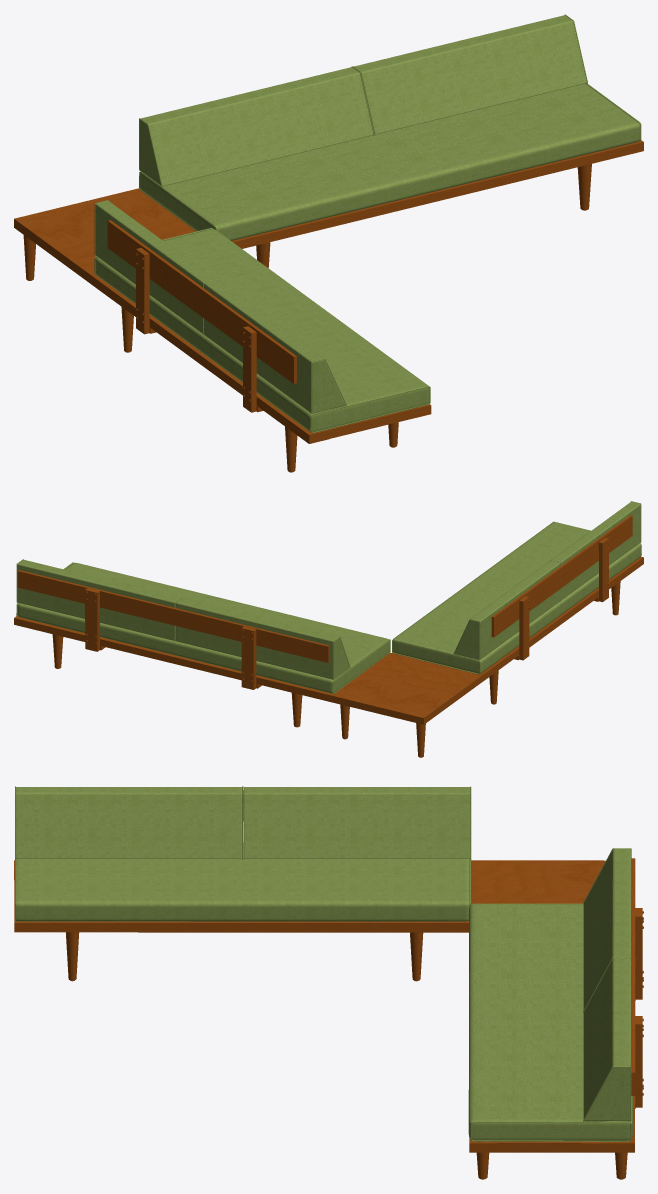
File: Bundle2git.glb
3 views of the same model, one above another, from view 1: azimuth 30°, elevation 25°; view 2: azimuth 150°, elevation 25°; view 3: azimuth 270°, elevation 25° (orthographic). The views are drawn at different scales.
Parts seen in each view (by area): view 1: Cylinder.005, Cylinder.068; view 2: Cylinder.005, Cylinder.068; view 3: Cylinder.005, Cylinder.068.
Boxes of the visible parts, x1=… form: Cylinder.005: x1=94, y1=14, x2=641, y2=432; Cylinder.068: x1=14, y1=140, x2=643, y2=472; Cylinder.005: x1=16, y1=501, x2=641, y2=693; Cylinder.068: x1=14, y1=515, x2=643, y2=757; Cylinder.005: x1=15, y1=786, x2=632, y2=1141; Cylinder.068: x1=14, y1=790, x2=643, y2=1179.
Bounding box in the file's own units: 3.47 × 0.7788 × 3.23.
Materials: 2 (2 with a texture image).
